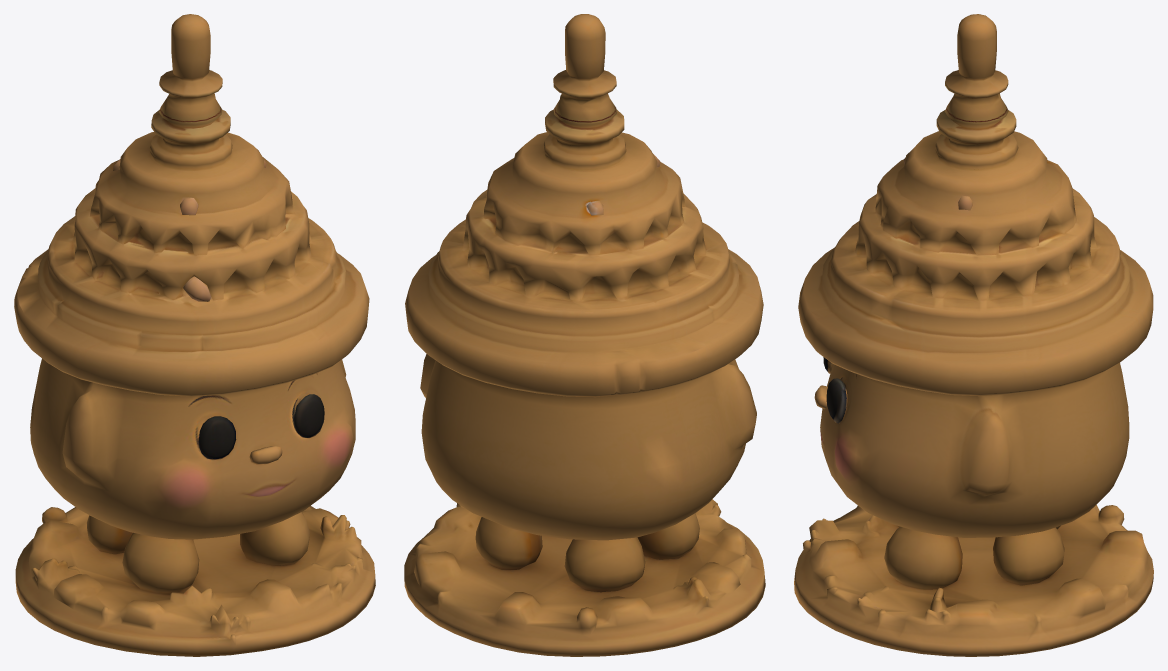
The model's file is indo-envi-3.glb.
3 renders of one model, left to right at view 1: azimuth 30°, elevation 25°; view 2: azimuth 150°, elevation 25°; view 3: azimuth 270°, elevation 25°, orthographic.
Visible parts, largest first — view 1: tripo_node_6baa2ebd-71fe-445b-984b-6c0336069479; view 2: tripo_node_6baa2ebd-71fe-445b-984b-6c0336069479; view 3: tripo_node_6baa2ebd-71fe-445b-984b-6c0336069479.
Part boxes in pixels (x1=…): tripo_node_6baa2ebd-71fe-445b-984b-6c0336069479: x1=14, y1=14, x2=375, y2=656; tripo_node_6baa2ebd-71fe-445b-984b-6c0336069479: x1=404, y1=14, x2=765, y2=656; tripo_node_6baa2ebd-71fe-445b-984b-6c0336069479: x1=794, y1=14, x2=1153, y2=656.
Size of the model in its own units: 0.5825 by 0.9995 by 0.5786.
1 material, 1 textured.
